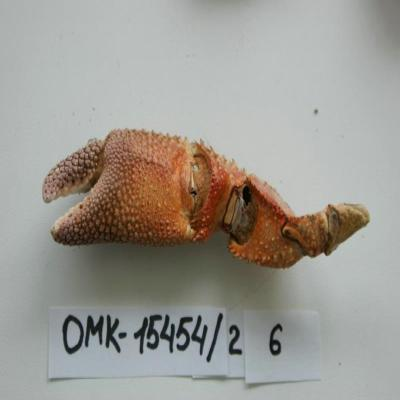natural_science_collection: (40, 129, 370, 270)
